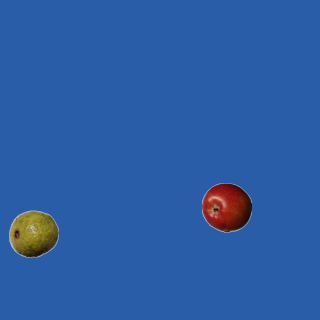Apple Braeburn: (201, 182, 251, 232)
Guava: (8, 208, 58, 258)
